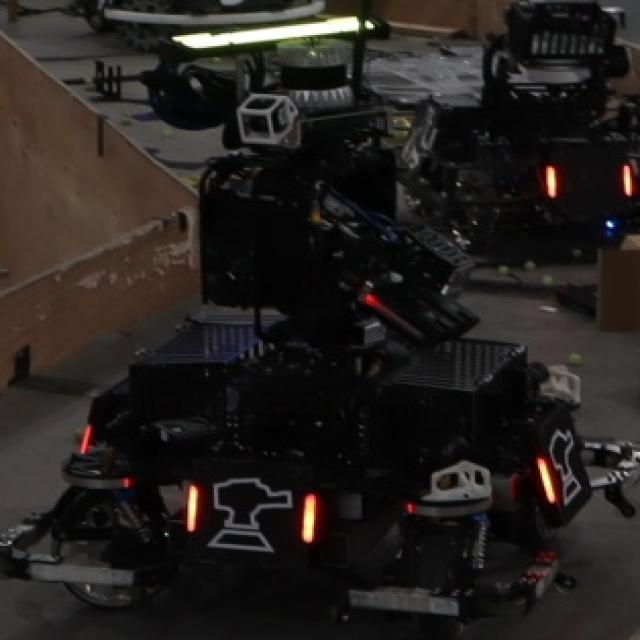Rs: (183, 466, 318, 560), (536, 419, 589, 511)
